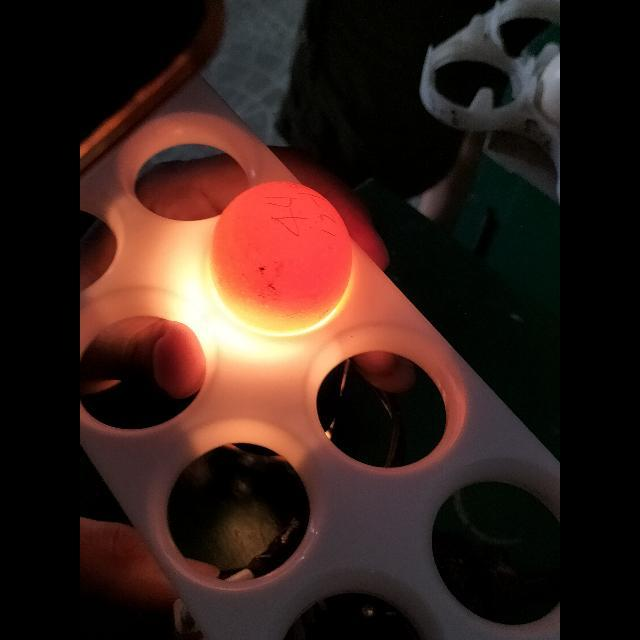Infertile: (215, 178, 353, 334)
